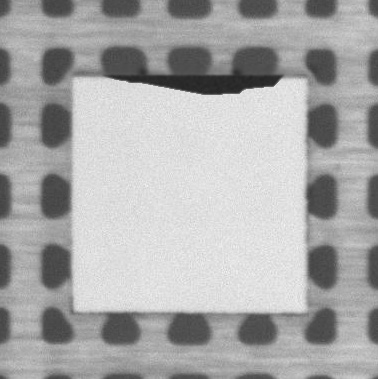DIE_BROKEN: (99, 71, 286, 97)
